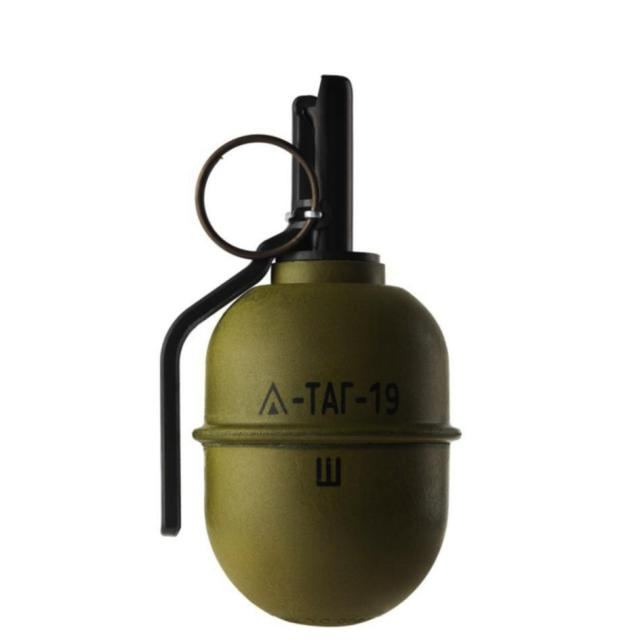grenade: (160, 76, 460, 628)
